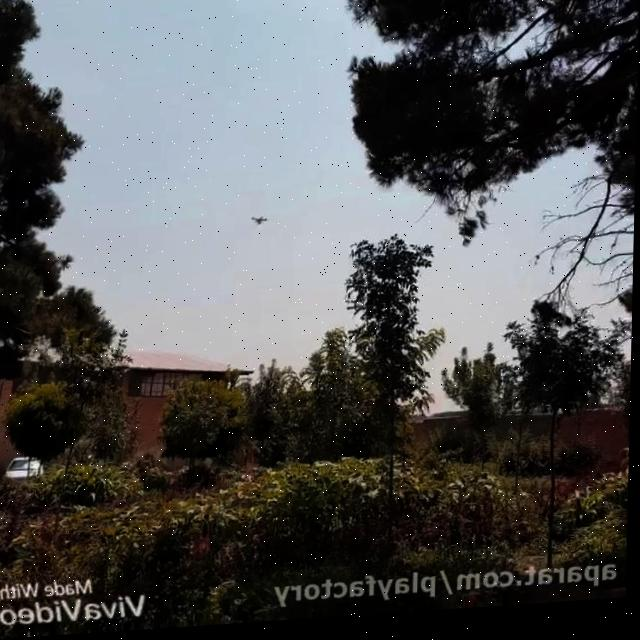drone: (248, 212, 276, 236)
